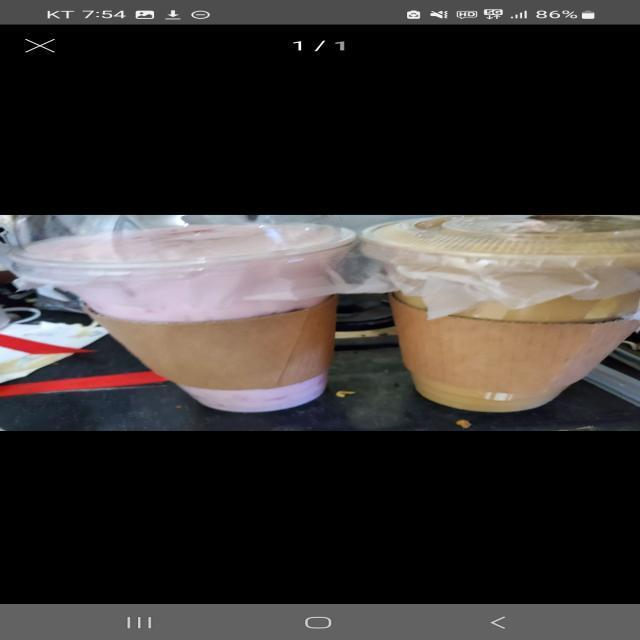cup: (0, 217, 424, 421), (326, 213, 640, 455)
